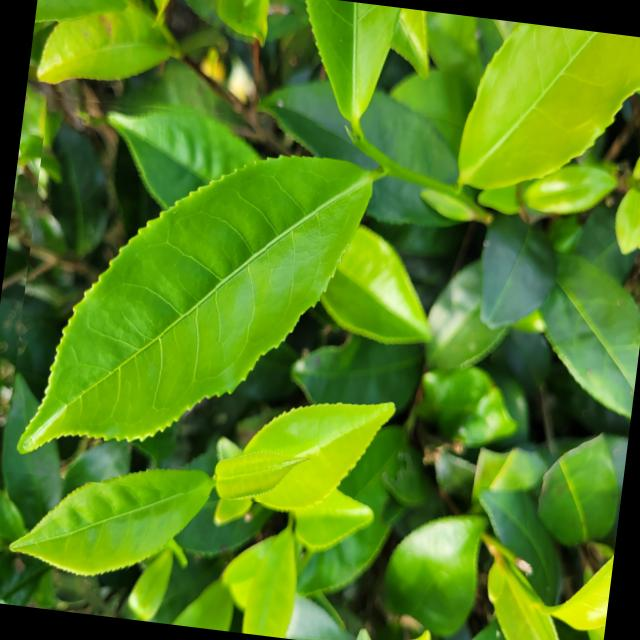Category B(2-4 days): (2, 89, 394, 513)
